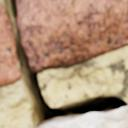brick: (38, 106, 127, 127)
broken_brick: (17, 0, 127, 71), (0, 1, 20, 87)
crack: (2, 0, 127, 127)
